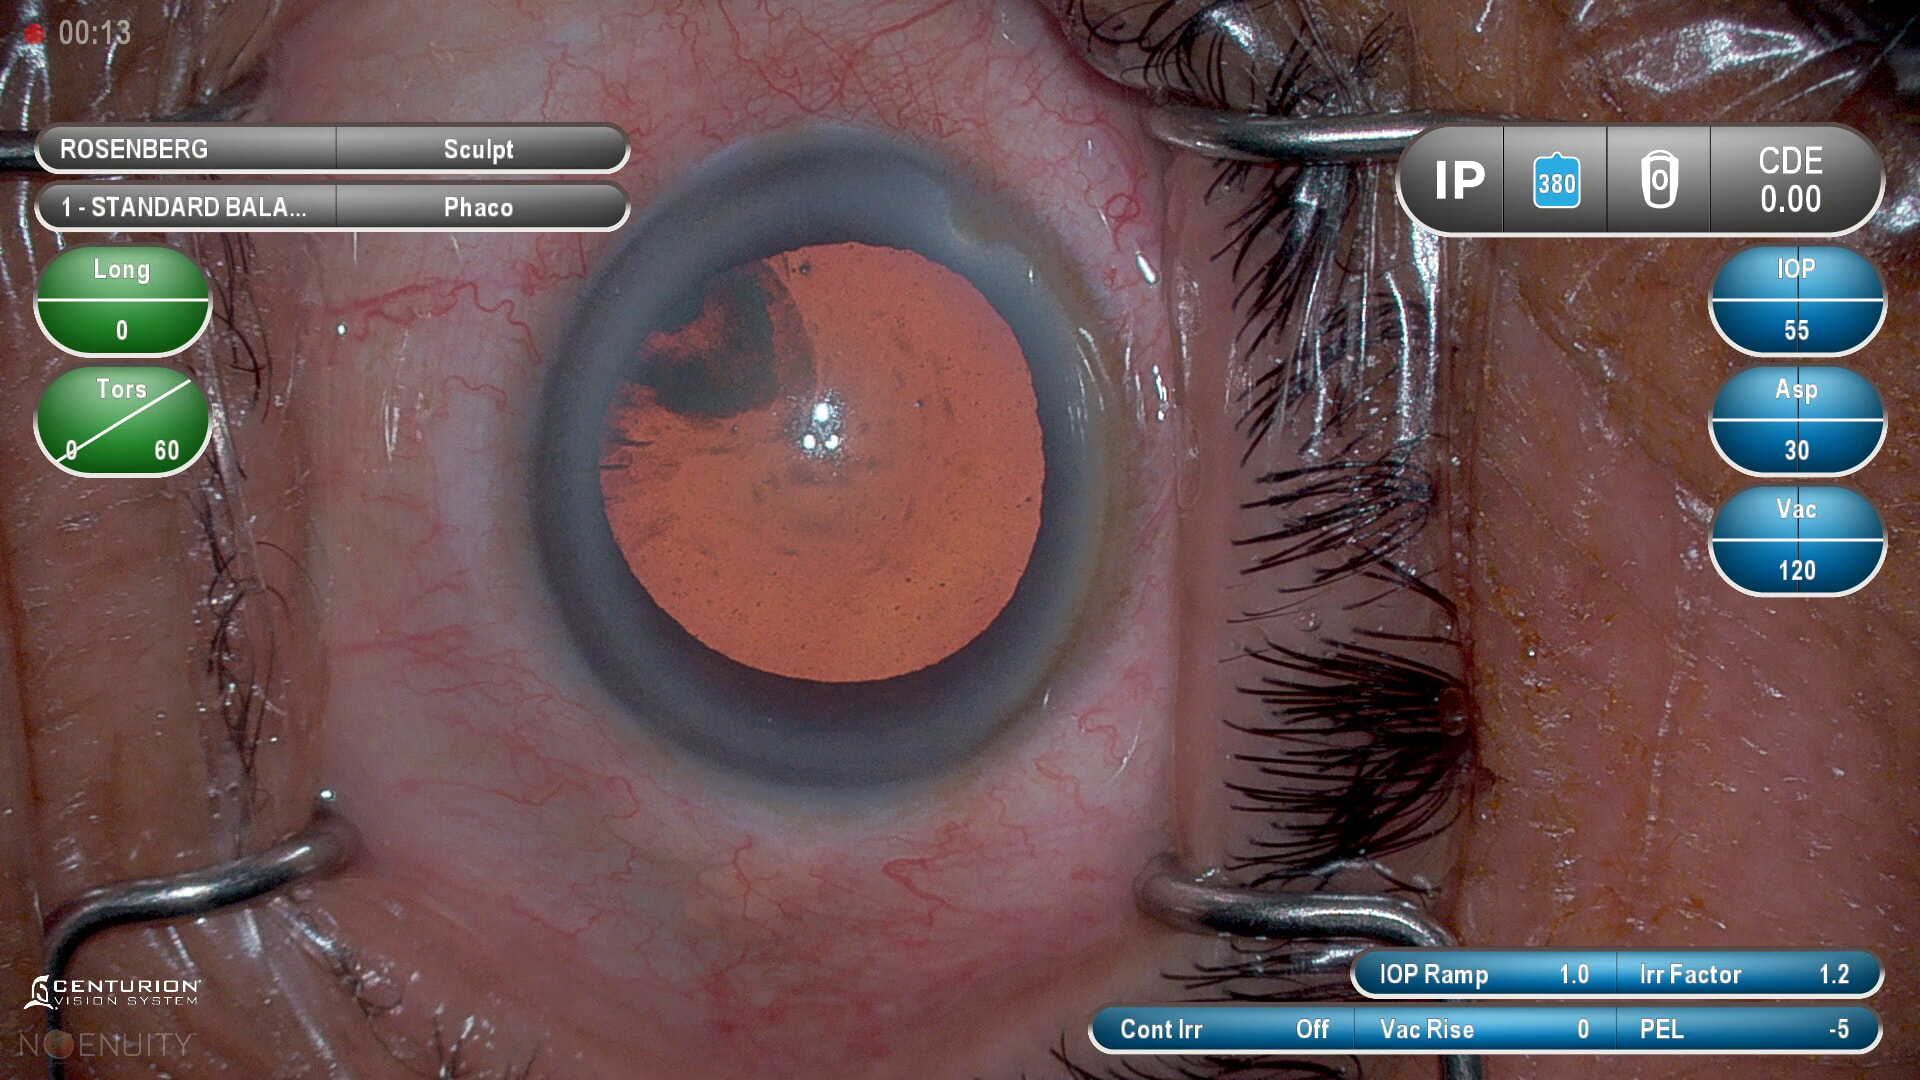iris: (542, 155, 1111, 787)
pupil: (596, 241, 1052, 687)
